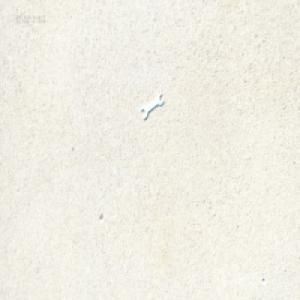Wrench: (140, 90, 163, 119)
